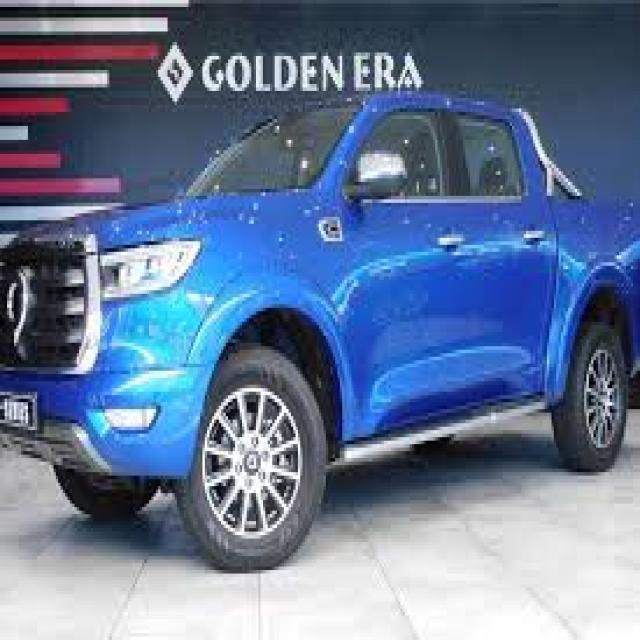Pickup Trucks: (2, 91, 640, 573)
